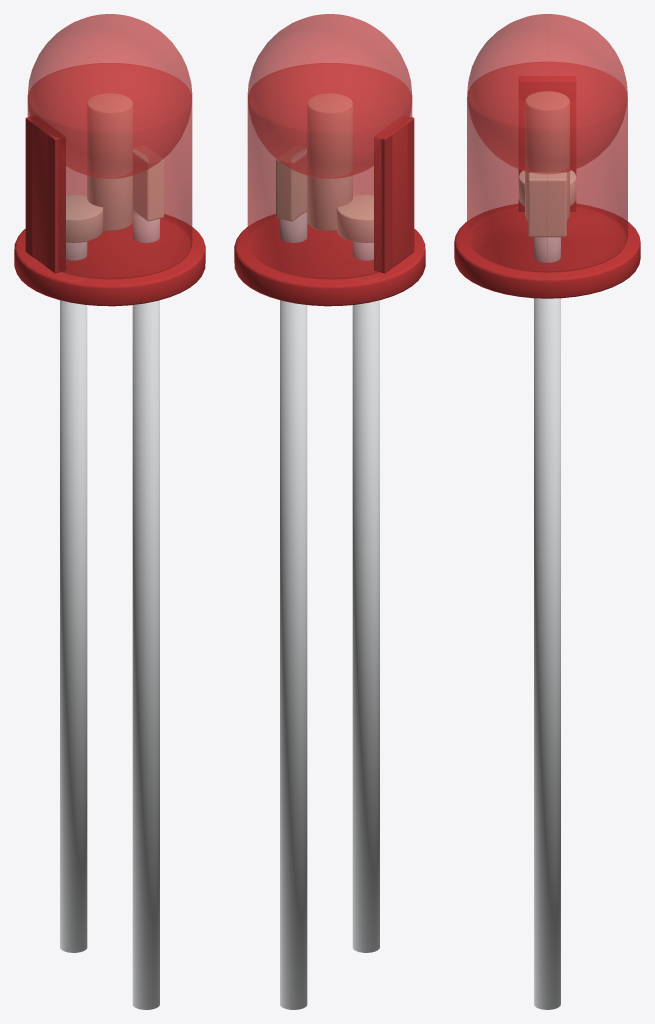
Rendered from led.glb.
3 views of the same model, side by side, from view 1: azimuth 30°, elevation 25°; view 2: azimuth 150°, elevation 25°; view 3: azimuth 270°, elevation 25° (orthographic). The views are drawn at different scales.
Visible parts, largest first — view 1: LED_Lens, LED_Dome, LED_Anode_Pin, LED_Cathode_Pin, LED_BaseFlange, LED_Cathode_Flat, LED_Internal_Post, LED_Internal_Anvil, LED_Internal_Cup, LED_Anode_Stub; view 2: LED_Lens, LED_Dome, LED_Anode_Pin, LED_Cathode_Pin, LED_BaseFlange, LED_Cathode_Flat, LED_Internal_Post, LED_Internal_Anvil, LED_Internal_Cup, LED_Anode_Stub; view 3: LED_Lens, LED_Dome, LED_Anode_Pin, LED_BaseFlange, LED_Internal_Post, LED_Internal_Anvil, LED_Cathode_Flat, LED_Anode_Stub, LED_Internal_Cup.
Part boxes in pixels (bbox=[...]): LED_Lens: bbox=[27, 63, 192, 279]; LED_Dome: bbox=[27, 14, 192, 178]; LED_Anode_Pin: bbox=[132, 300, 159, 1009]; LED_Cathode_Pin: bbox=[60, 300, 87, 952]; LED_BaseFlange: bbox=[14, 214, 205, 306]; LED_Cathode_Flat: bbox=[25, 115, 65, 273]; LED_Internal_Post: bbox=[87, 93, 132, 230]; LED_Internal_Anvil: bbox=[133, 146, 163, 221]; LED_Internal_Cup: bbox=[66, 195, 103, 242]; LED_Anode_Stub: bbox=[132, 211, 159, 242]; LED_Lens: bbox=[247, 63, 412, 279]; LED_Dome: bbox=[247, 14, 412, 178]; LED_Anode_Pin: bbox=[280, 300, 307, 1009]; LED_Cathode_Pin: bbox=[352, 300, 379, 952]; LED_BaseFlange: bbox=[234, 214, 425, 306]; LED_Cathode_Flat: bbox=[374, 115, 414, 273]; LED_Internal_Post: bbox=[307, 93, 352, 230]; LED_Internal_Anvil: bbox=[276, 146, 306, 221]; LED_Internal_Cup: bbox=[336, 195, 373, 242]; LED_Anode_Stub: bbox=[280, 211, 307, 242]; LED_Lens: bbox=[467, 62, 627, 272]; LED_Dome: bbox=[467, 14, 627, 173]; LED_Anode_Pin: bbox=[534, 298, 560, 1009]; LED_BaseFlange: bbox=[454, 204, 640, 298]; LED_Internal_Post: bbox=[525, 91, 569, 219]; LED_Internal_Anvil: bbox=[528, 172, 566, 237]; LED_Cathode_Flat: bbox=[518, 76, 576, 211]; LED_Anode_Stub: bbox=[534, 237, 560, 262]; LED_Internal_Cup: bbox=[518, 170, 576, 205].
Bounding box in the file's own units: 0.058 × 0.3315 × 0.058.
